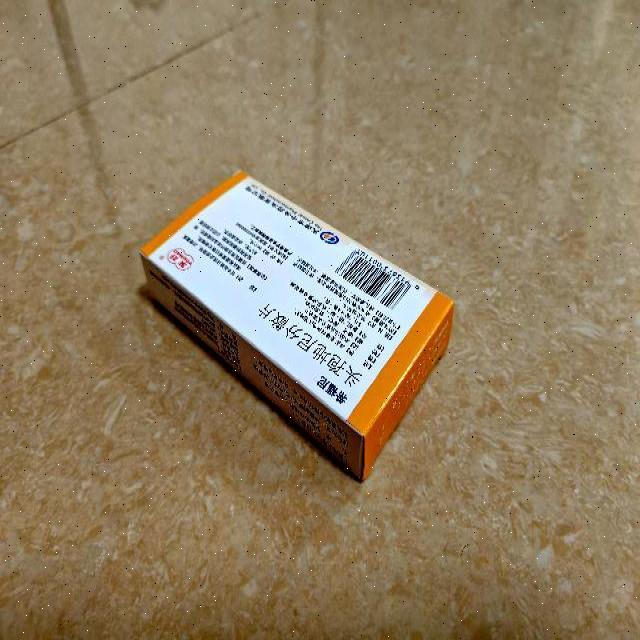box: (140, 168, 454, 483)
